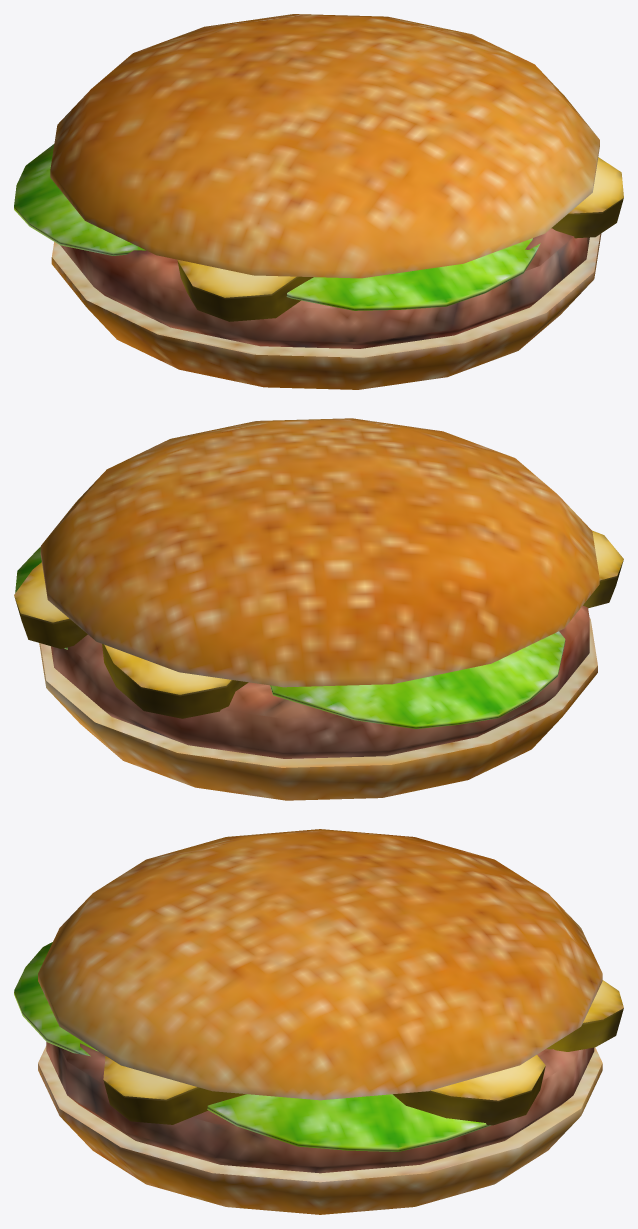
The model's file is burger_2.fbx.
3 views of the same model, one above another, from view 1: azimuth 30°, elevation 25°; view 2: azimuth 150°, elevation 25°; view 3: azimuth 270°, elevation 25° (orthographic).
Visible parts, largest first — view 1: burger_2; view 2: burger_2; view 3: burger_2.
Part boxes in pixels (<box>): burger_2: <box>14,14,623,389</box>; burger_2: <box>14,418,623,800</box>; burger_2: <box>14,829,623,1214</box>.
Bounding box in the file's own units: 12.83 × 6.32 × 12.94.
